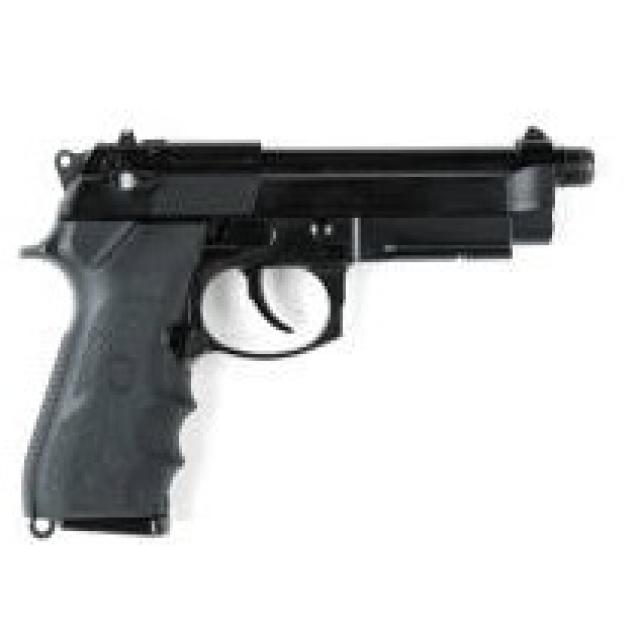pistol: (5, 122, 603, 551)
